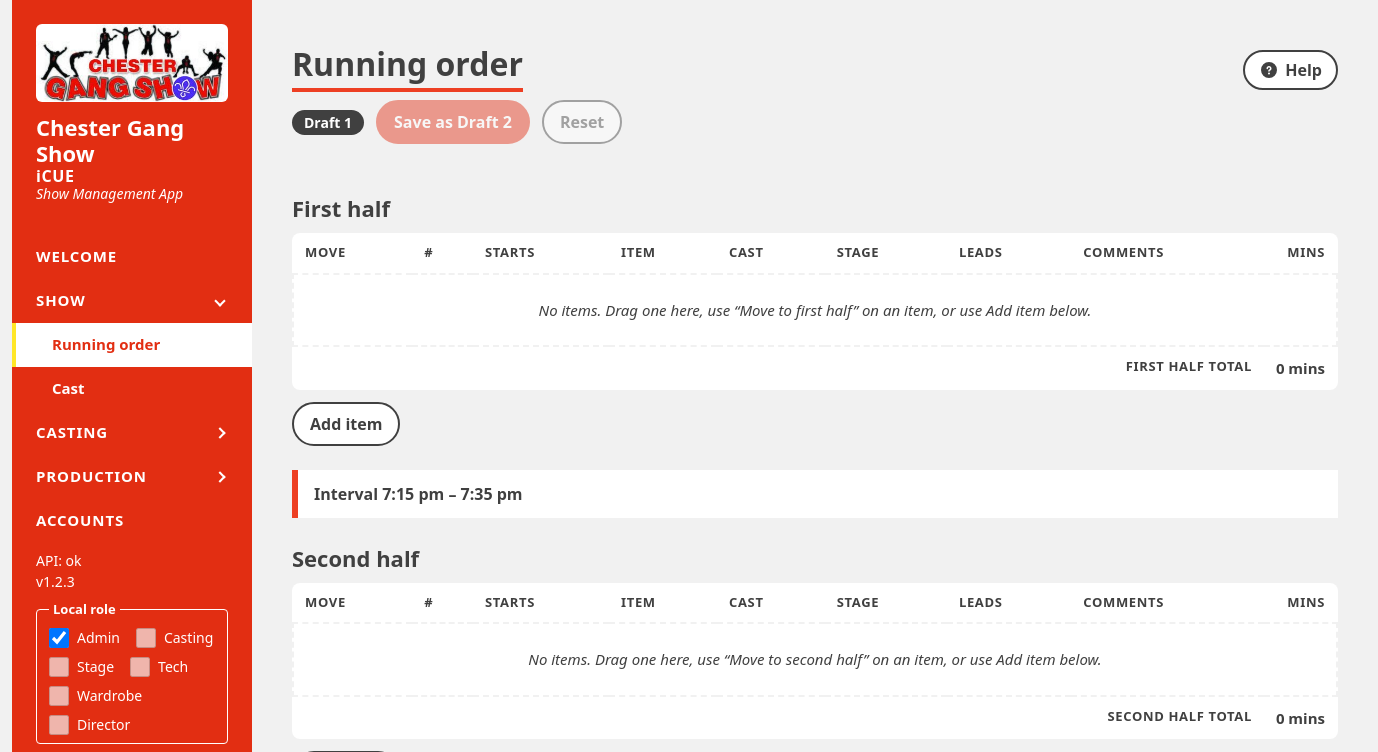
Scenario: App shell › the local access switch (production-props FR9) › shows /running-order read-only with every permission unticked
Step 1. Click the checkbox labelled "Admin" → (59, 638), box 49,628 -> 69,648
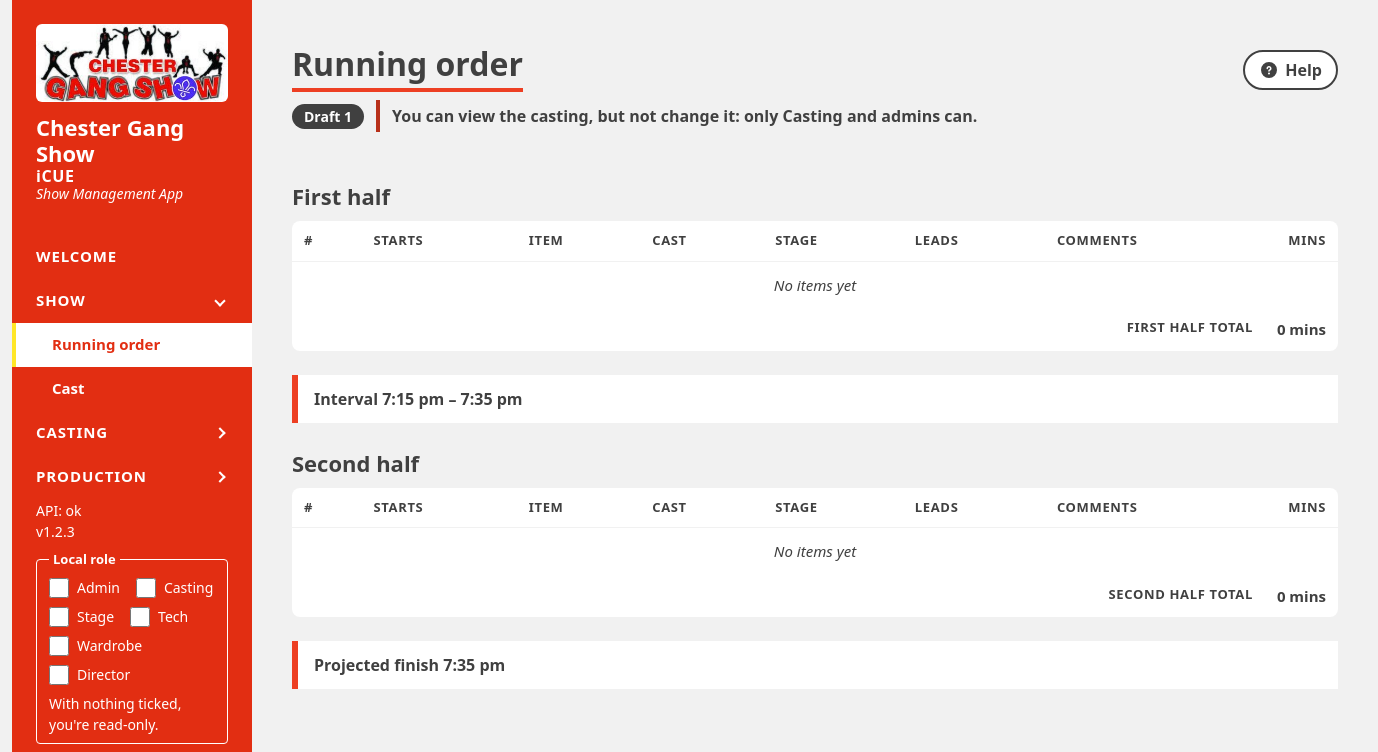
Expected: the text with test id "read-only" reads "You can view the casting, but not change it: only Casting and admins can.", 392,105 -> 977,127
